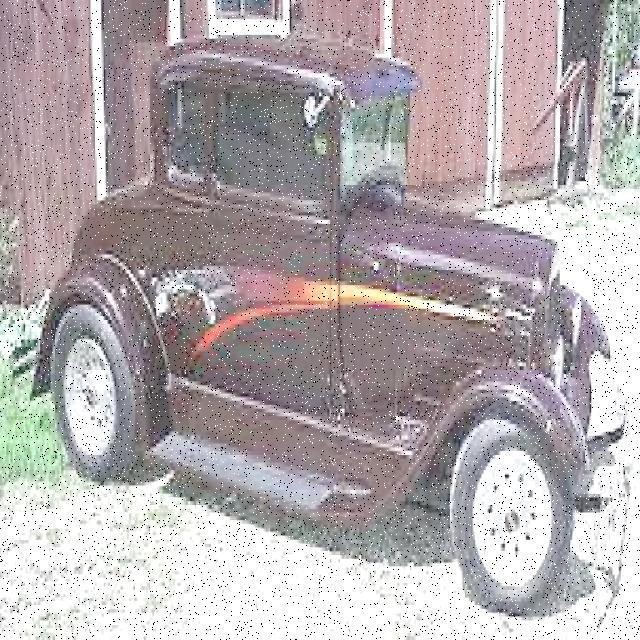car damage: (147, 252, 243, 336)
